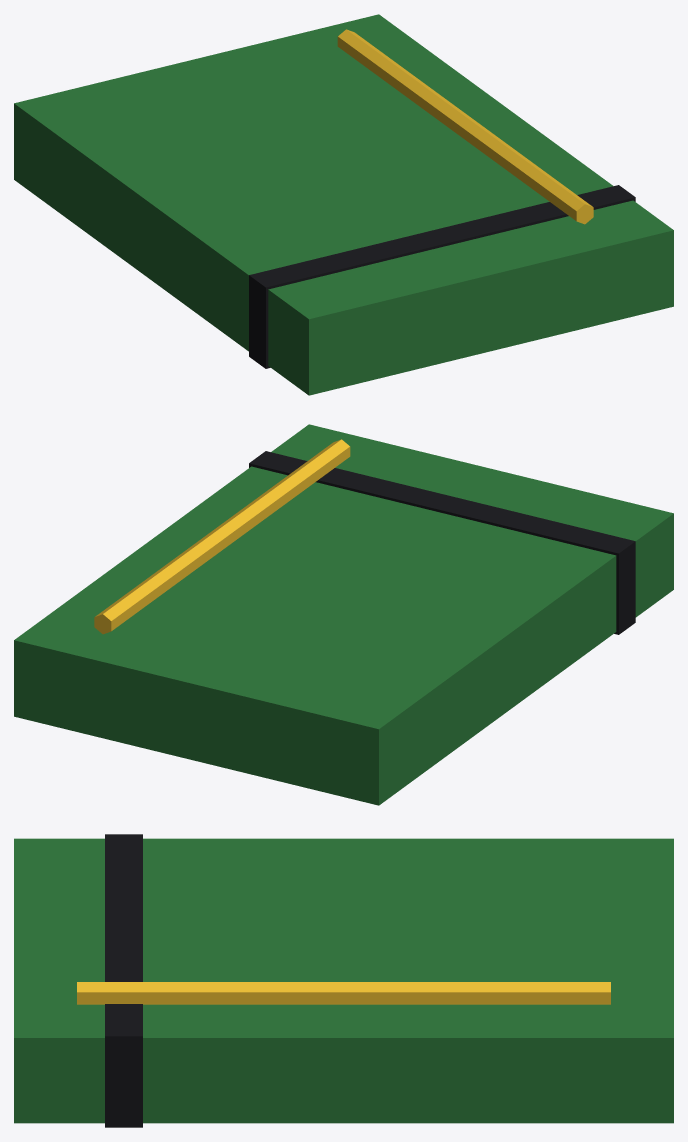
File: rink_bet_notebook.glb
The picture shows the model from 3 angles, top to bottom: view 1: azimuth 30°, elevation 25°; view 2: azimuth 150°, elevation 25°; view 3: azimuth 270°, elevation 25°; orthographic projection. The views are drawn at different scales.
Visible parts, largest first — view 1: cover_bet_cover, band_bet_band, pencil_bet_pencil; view 2: cover_bet_cover, band_bet_band, pencil_bet_pencil; view 3: cover_bet_cover, pencil_bet_pencil, band_bet_band.
Boxes of the visible parts, x1,y1,x2,y2 form: cover_bet_cover: (14,14,673,395); band_bet_band: (249,185,635,368); pencil_bet_pencil: (337,29,593,224); cover_bet_cover: (14,424,673,805); band_bet_band: (249,451,635,634); pencil_bet_pencil: (94,439,350,634); cover_bet_cover: (14,838,673,1123); pencil_bet_pencil: (77,982,610,1004); band_bet_band: (105,834,142,1127).
Size of the model in its own units: 0.152 by 0.039 by 0.21.
